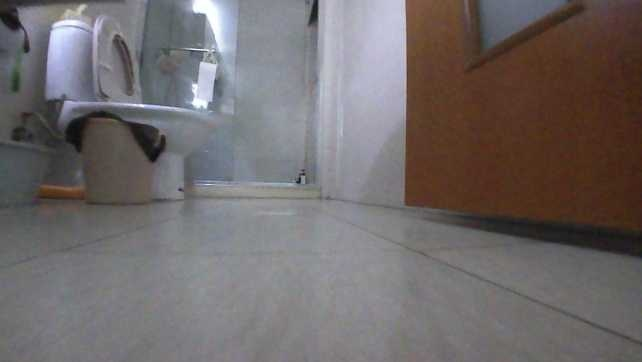toilet: (43, 12, 204, 199)
trash_can: (65, 107, 163, 205)
